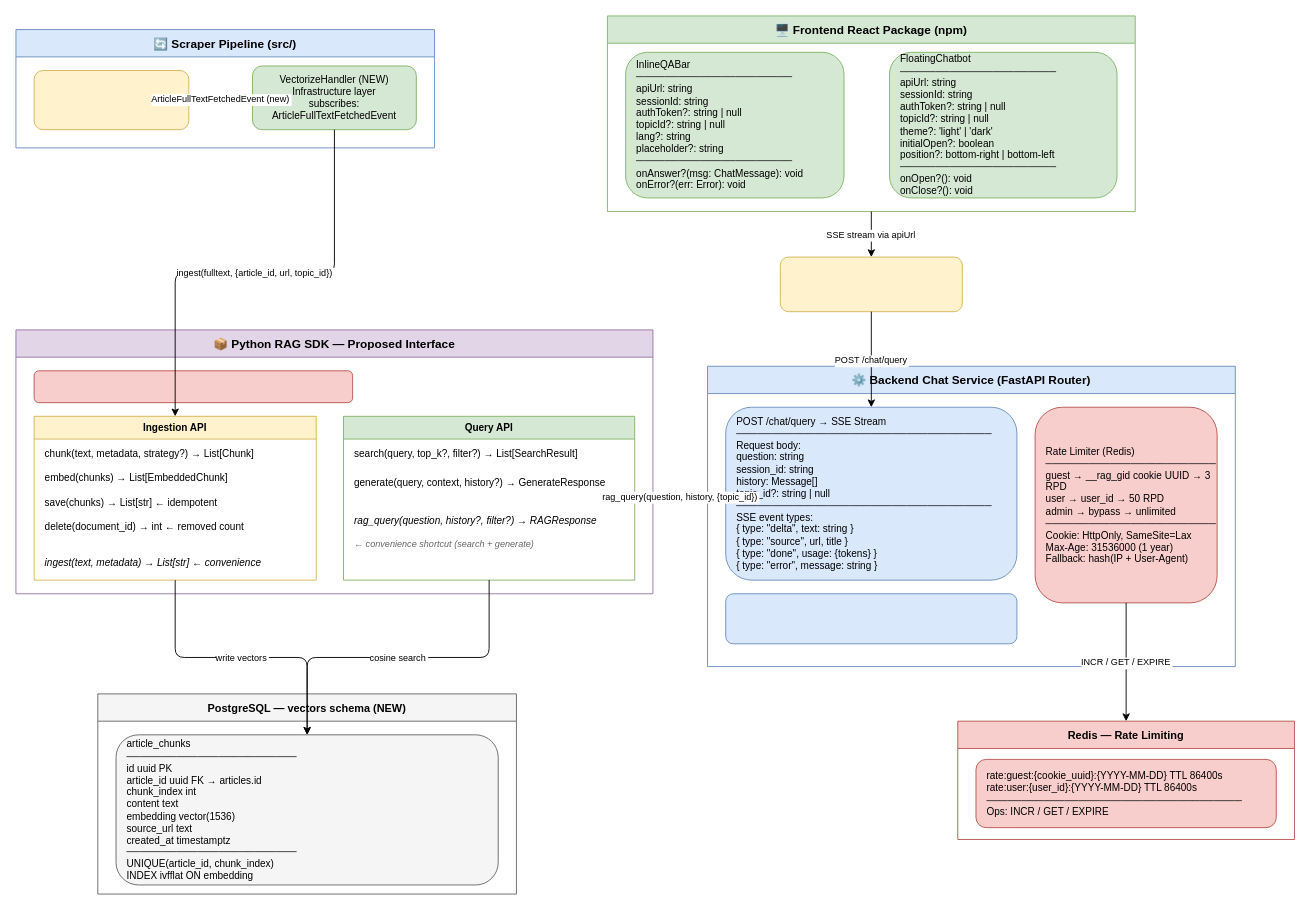
The diagram is 1310 pixels wide and 910 high, and some of its shapes have lost their labels. Each missing label, with the centre of its shape:
"configure(db_url, embedding_model, collection)" belongs at point 193,386.
"Full-text Fetch (PDF / Blog / RSS)" belongs at point 111,100.
"GET /chat/session/{id}/history DELETE /chat/session/{id}" belongs at point 871,618.
"Next.js API Proxy /api/proxy/[...path]" belongs at point 870,284.
